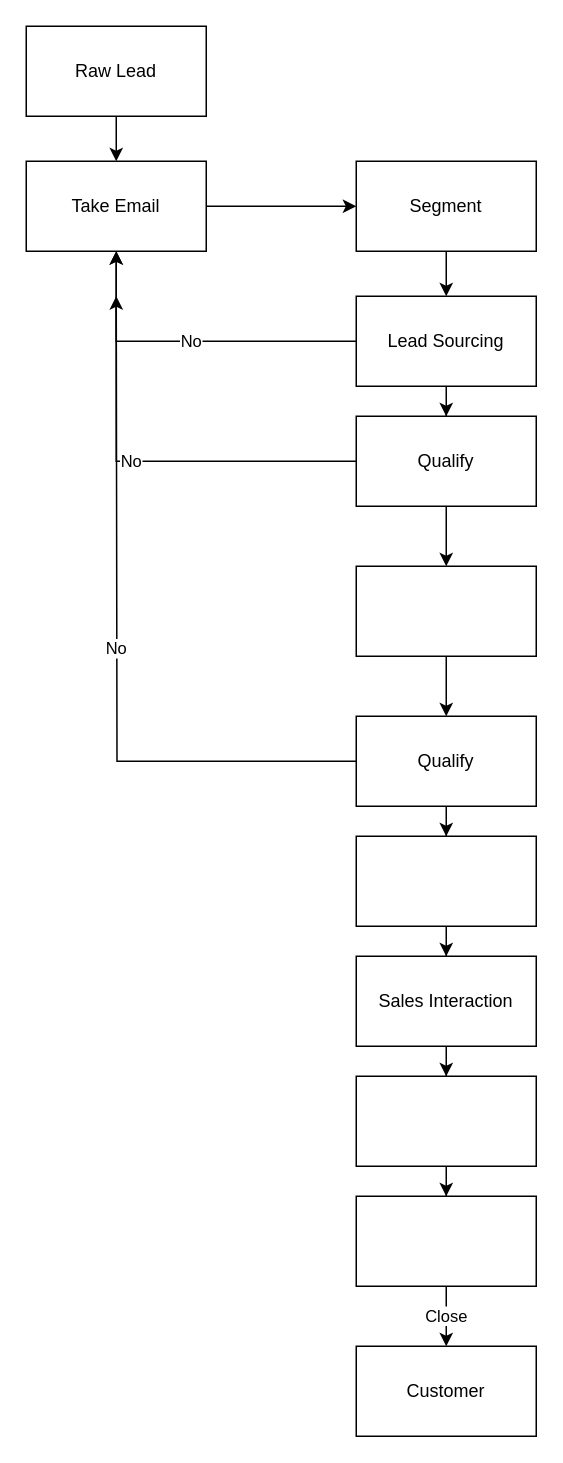
Image size: 563x1463. Some labels were removed from this diagram. The shapes that lost their labels are listed below. From the top down, each one's box as (x1, y1, x2, y2) in pixels, then its label:
(355, 565, 536, 656): Discovery Call
(355, 835, 536, 926): Sales Qualified Lead
(355, 1075, 536, 1166): Ready to Buy
(355, 1195, 536, 1286): Opportunity
